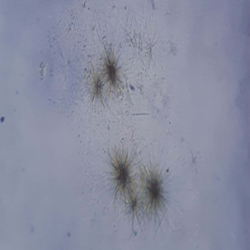Crystal: (136, 160, 178, 217), (102, 146, 138, 195), (95, 40, 129, 88), (119, 181, 150, 227), (83, 62, 108, 107)
